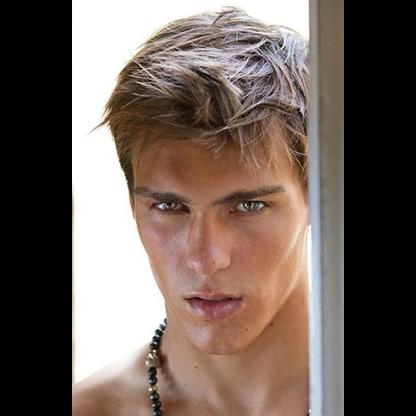Male: (128, 116, 310, 354)
